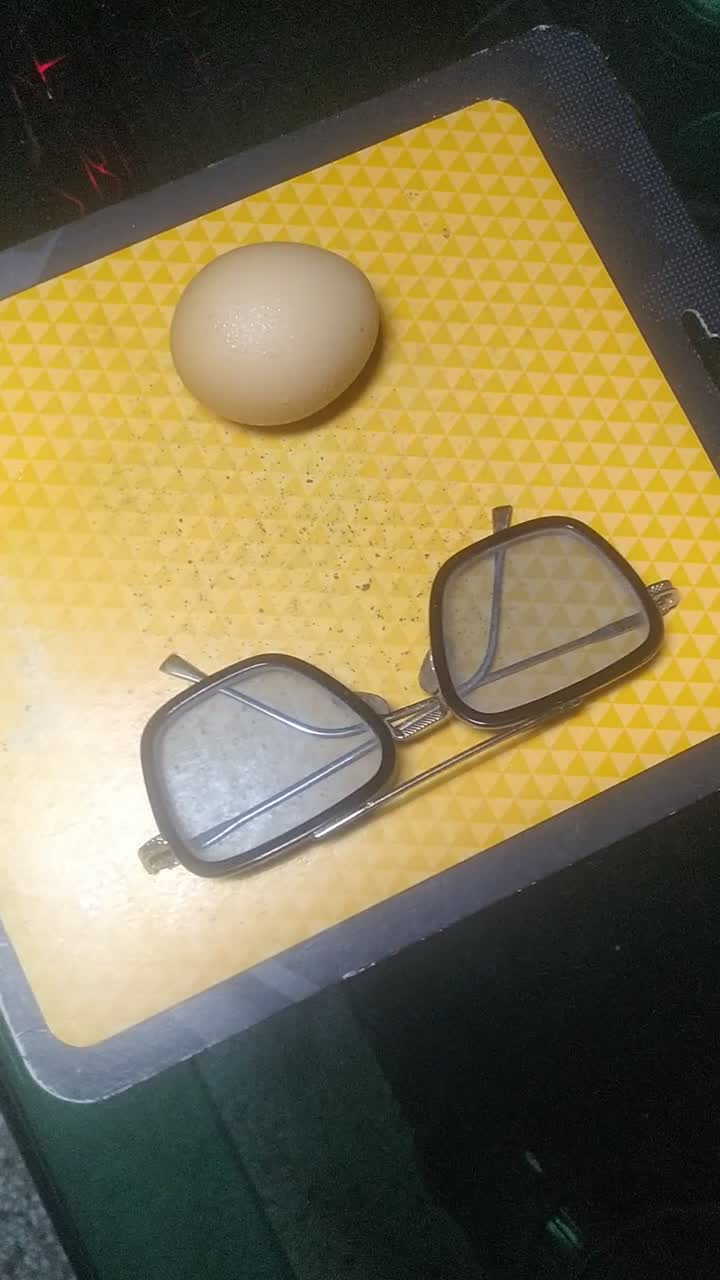egg: (168, 244, 386, 433)
sunglass: (108, 501, 697, 873)
